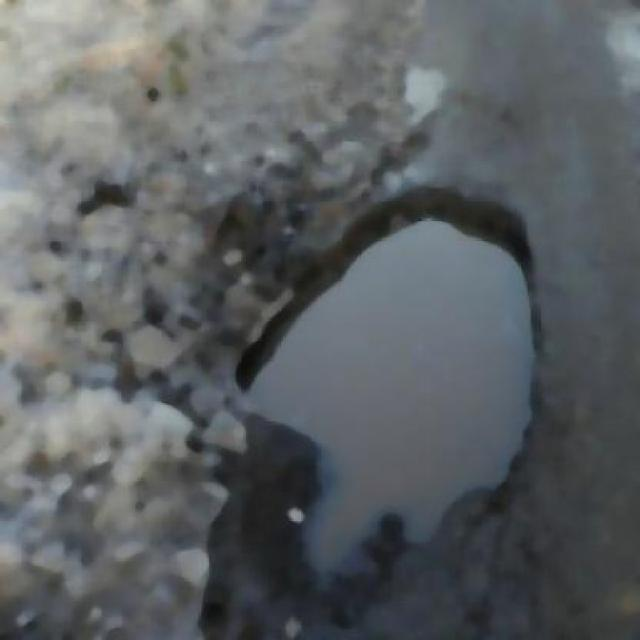Pothole: (227, 178, 551, 570)
